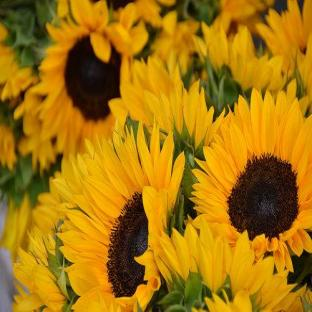sunflower: (55, 116, 185, 312), (192, 88, 312, 272)
